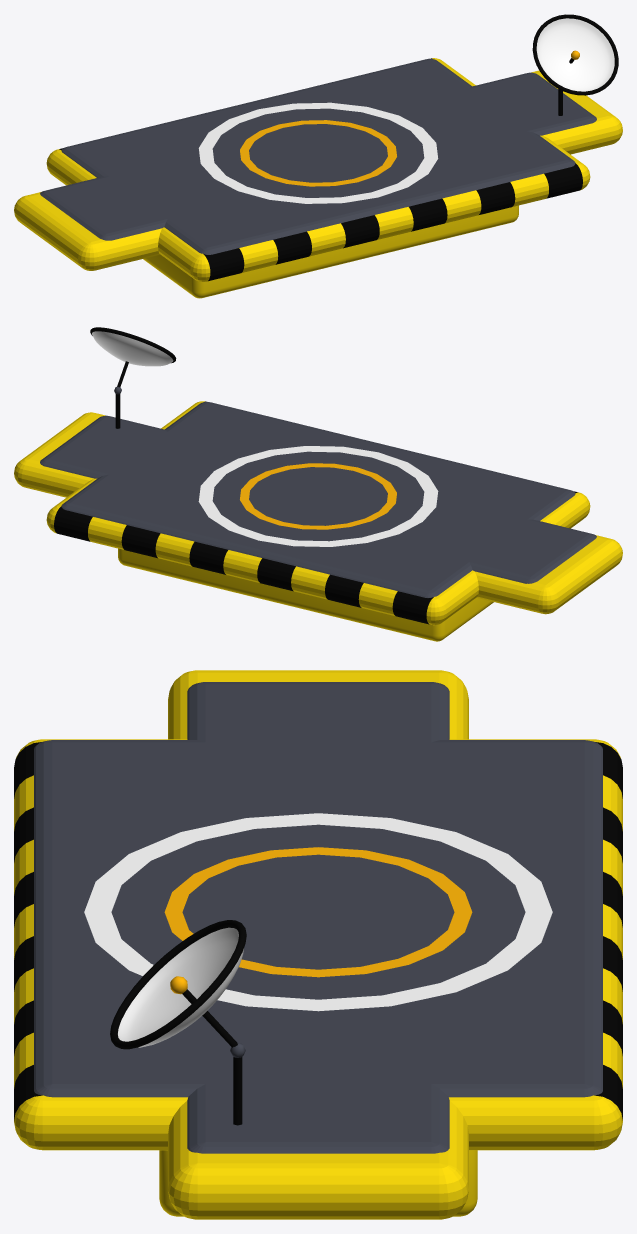
Rendered from biliki.fbx-002.fbx.
3 renders of one model, top to bottom at view 1: azimuth 30°, elevation 25°; view 2: azimuth 150°, elevation 25°; view 3: azimuth 270°, elevation 25°, orthographic. The views are drawn at different scales.
Visible parts, largest first — view 1: Cube, Cube_2, Cube_3, Cube_4, Cube_1, Tube, Capsule, Tube_1, Torus; view 2: Cube, Cube_2, Cube_3, Cube_4, Cube_1, Tube, Tube_1, Capsule, Torus; view 3: Cube, Cube_2, Cube_3, Cube_4, Tube, Tube_1, Capsule, Torus, Cube_1.
Boxes of the visible parts, x1=… form: Cube: x1=61, y1=58, x2=575, y2=254; Cube_2: x1=40, y1=72, x2=596, y2=240; Cube_3: x1=46, y1=58, x2=590, y2=281; Cube_4: x1=14, y1=70, x2=622, y2=270; Cube_1: x1=143, y1=205, x2=518, y2=298; Tube: x1=198, y1=102, x2=438, y2=203; Capsule: x1=536, y1=18, x2=614, y2=91; Tube_1: x1=240, y1=120, x2=396, y2=186; Torus: x1=532, y1=14, x2=618, y2=95; Cube: x1=61, y1=402, x2=575, y2=597; Cube_2: x1=40, y1=415, x2=596, y2=583; Cube_3: x1=46, y1=401, x2=590, y2=625; Cube_4: x1=14, y1=412, x2=622, y2=614; Cube_1: x1=118, y1=548, x2=493, y2=641; Tube: x1=198, y1=446, x2=438, y2=546; Tube_1: x1=240, y1=463, x2=396, y2=529; Capsule: x1=92, y1=331, x2=173, y2=366; Torus: x1=90, y1=327, x2=176, y2=363; Cube: x1=34, y1=740, x2=602, y2=1097; Cube_2: x1=187, y1=682, x2=449, y2=1153; Cube_3: x1=14, y1=739, x2=622, y2=1150; Cube_4: x1=168, y1=670, x2=468, y2=1219; Tube: x1=84, y1=813, x2=552, y2=1011; Tube_1: x1=164, y1=847, x2=472, y2=977; Capsule: x1=118, y1=927, x2=243, y2=1047; Torus: x1=110, y1=920, x2=246, y2=1049; Cube_1: x1=159, y1=1150, x2=477, y2=1216.
Size of the model in its own units: 657 by 206 by 328.
